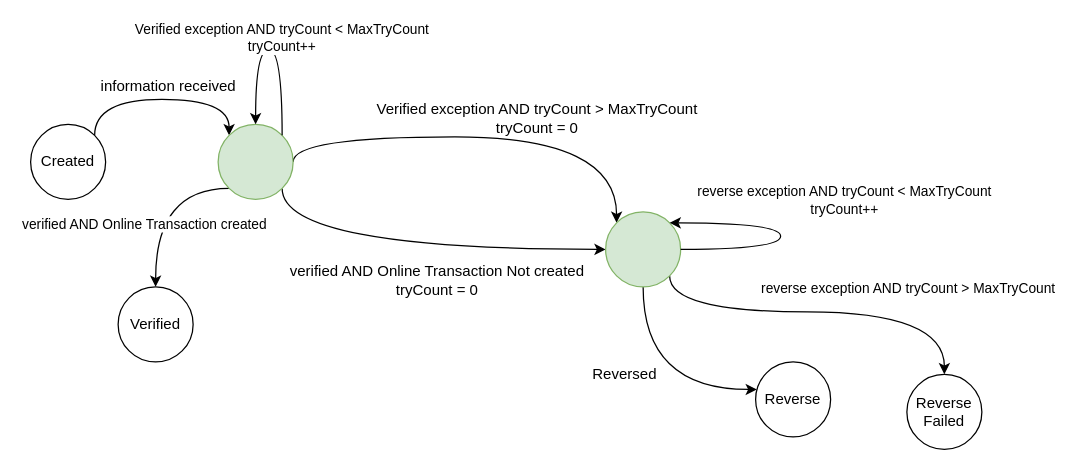
Some shapes in this 1076 by 471 pixel diagram are drawn without their labels. Each missing label, with the box of its shape:
Need Reverse: (604, 211, 681, 287)
Need Verified: (217, 123, 293, 199)
